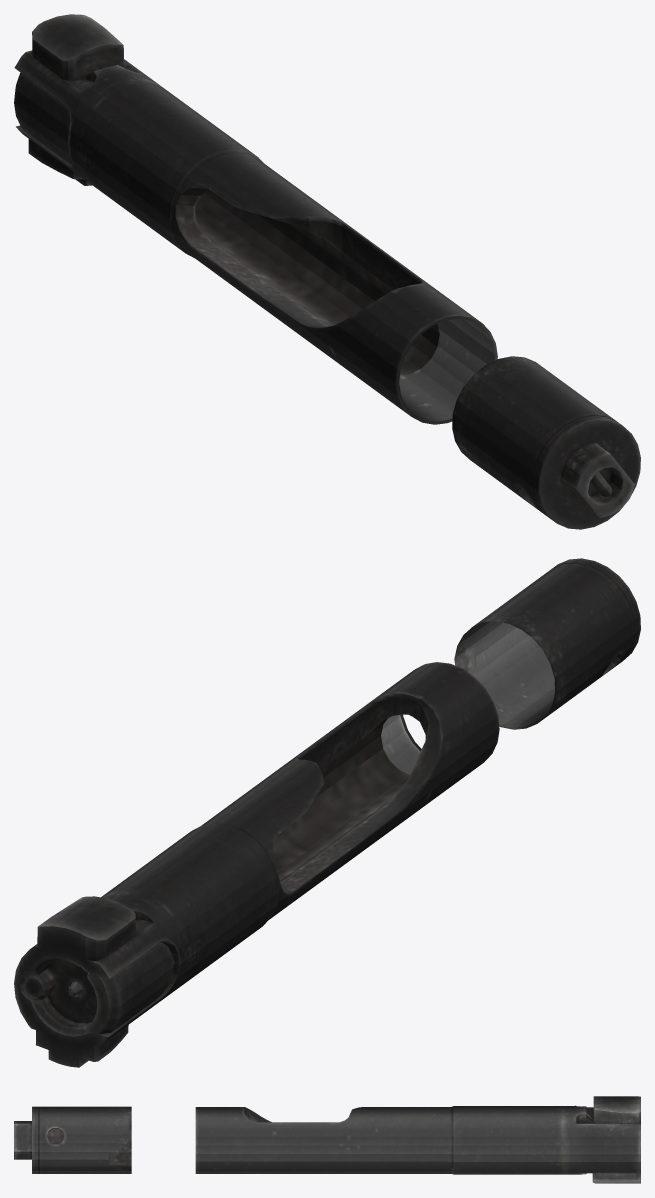
The picture shows the model from 3 angles, top to bottom: view 1: azimuth 30°, elevation 25°; view 2: azimuth 150°, elevation 25°; view 3: azimuth 270°, elevation 25°; orthographic projection. The views are drawn at different scales.
Visible parts, largest first — view 1: TW_65fb023261d5829b2d090755_PZ_Import; view 2: TW_65fb023261d5829b2d090755_PZ_Import; view 3: TW_65fb023261d5829b2d090755_PZ_Import.
Boxes of the visible parts, x1=… form: TW_65fb023261d5829b2d090755_PZ_Import: x1=14, y1=14, x2=640, y2=529; TW_65fb023261d5829b2d090755_PZ_Import: x1=14, y1=558, x2=640, y2=1067; TW_65fb023261d5829b2d090755_PZ_Import: x1=14, y1=1096, x2=640, y2=1183.
Size of the model in its own units: 0.0113 by 0.1025 by 0.0144.
Materials: 1 (1 with a texture image).
